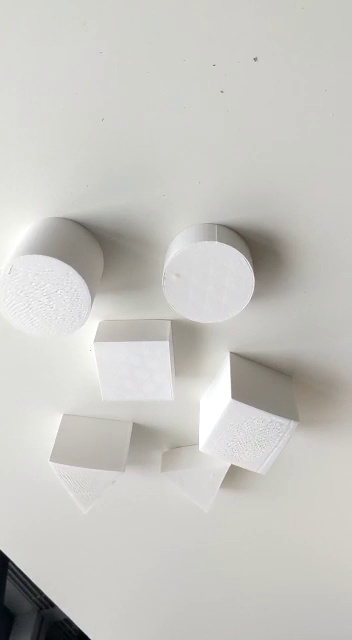Clyinder_short: (159, 222, 258, 325)
Cube: (193, 351, 301, 481)
Cube_short: (93, 315, 177, 405)
Cylinder: (1, 214, 106, 340)
Triangle: (45, 407, 136, 521)
Triangle_short: (161, 436, 242, 514)
